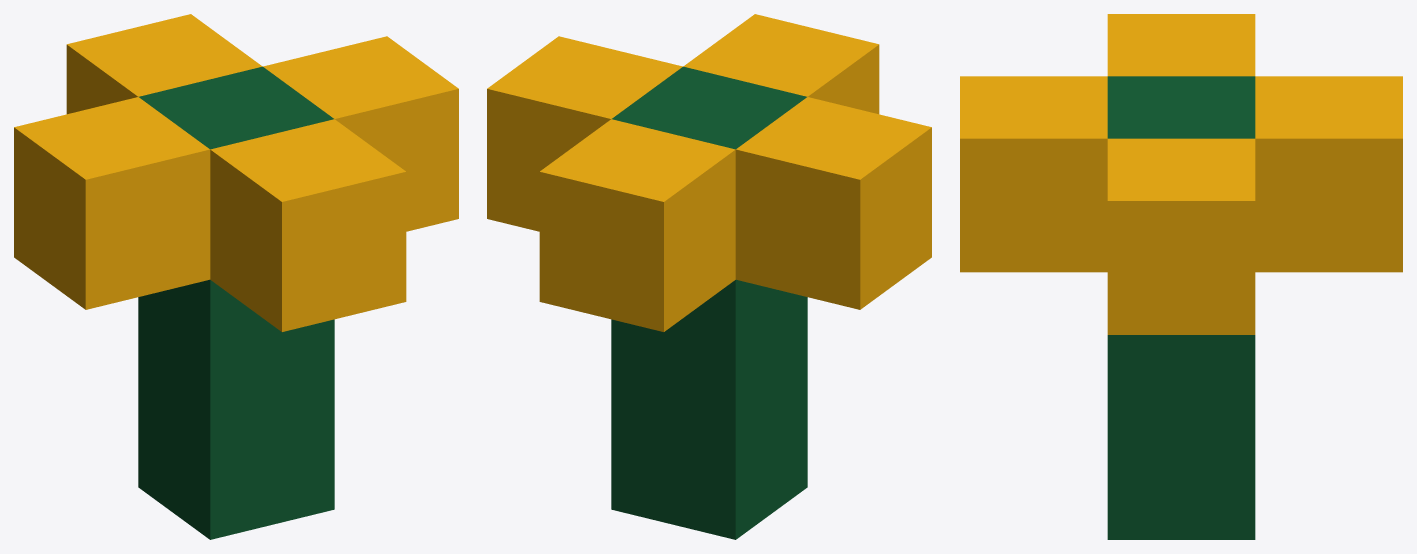
Rendered from flower_g_6.obj.
3 views of the same model, side by side, from view 1: azimuth 30°, elevation 25°; view 2: azimuth 150°, elevation 25°; view 3: azimuth 270°, elevation 25° (orthographic). The views are drawn at different scales.
Bounding box in the file's own units: 0.3 × 0.3 × 0.3.
1 material, 1 textured.
